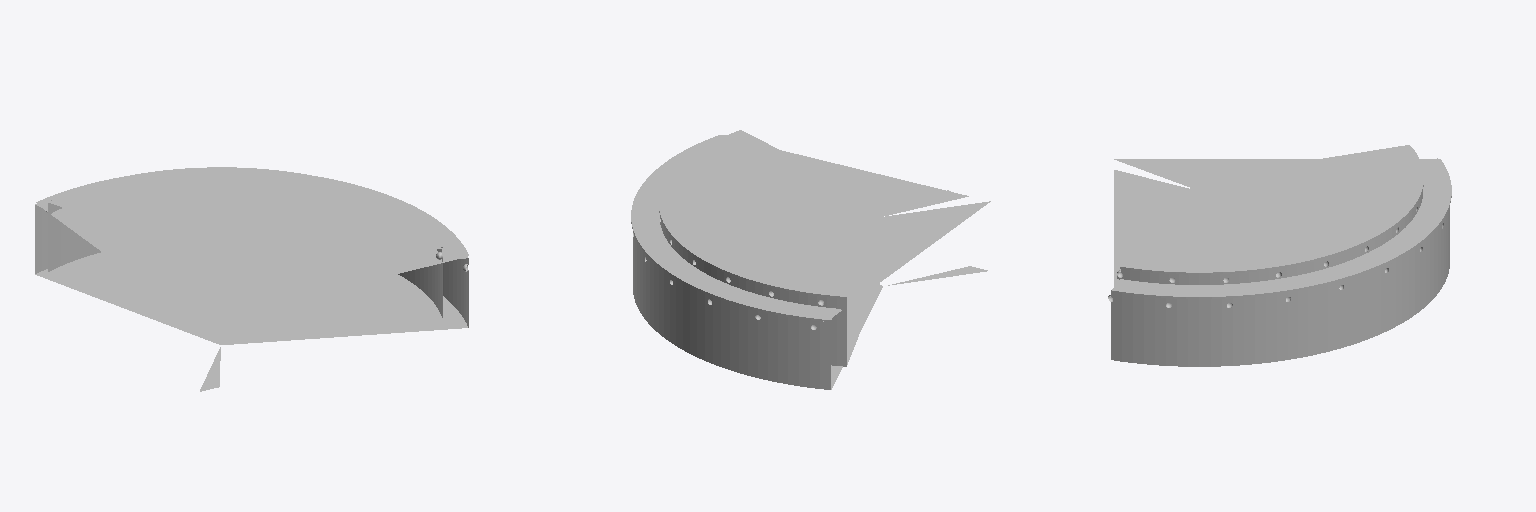
Rendered from stage.obj.
3 views of the same model, side by side, from view 1: azimuth 30°, elevation 25°; view 2: azimuth 150°, elevation 25°; view 3: azimuth 270°, elevation 25° (orthographic).
Parts seen in each view (by area): view 1: Stage; view 2: Stage; view 3: Stage.
Part boxes in pixels (x1,y1,x2,y2): Stage: (35, 167, 468, 391); Stage: (631, 130, 990, 389); Stage: (1108, 145, 1451, 366).
Size of the model in its own units: 430 by 119 by 446.